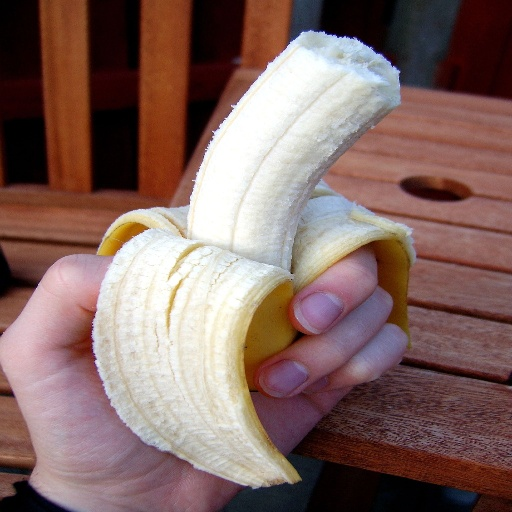hand: (0, 244, 412, 511)
